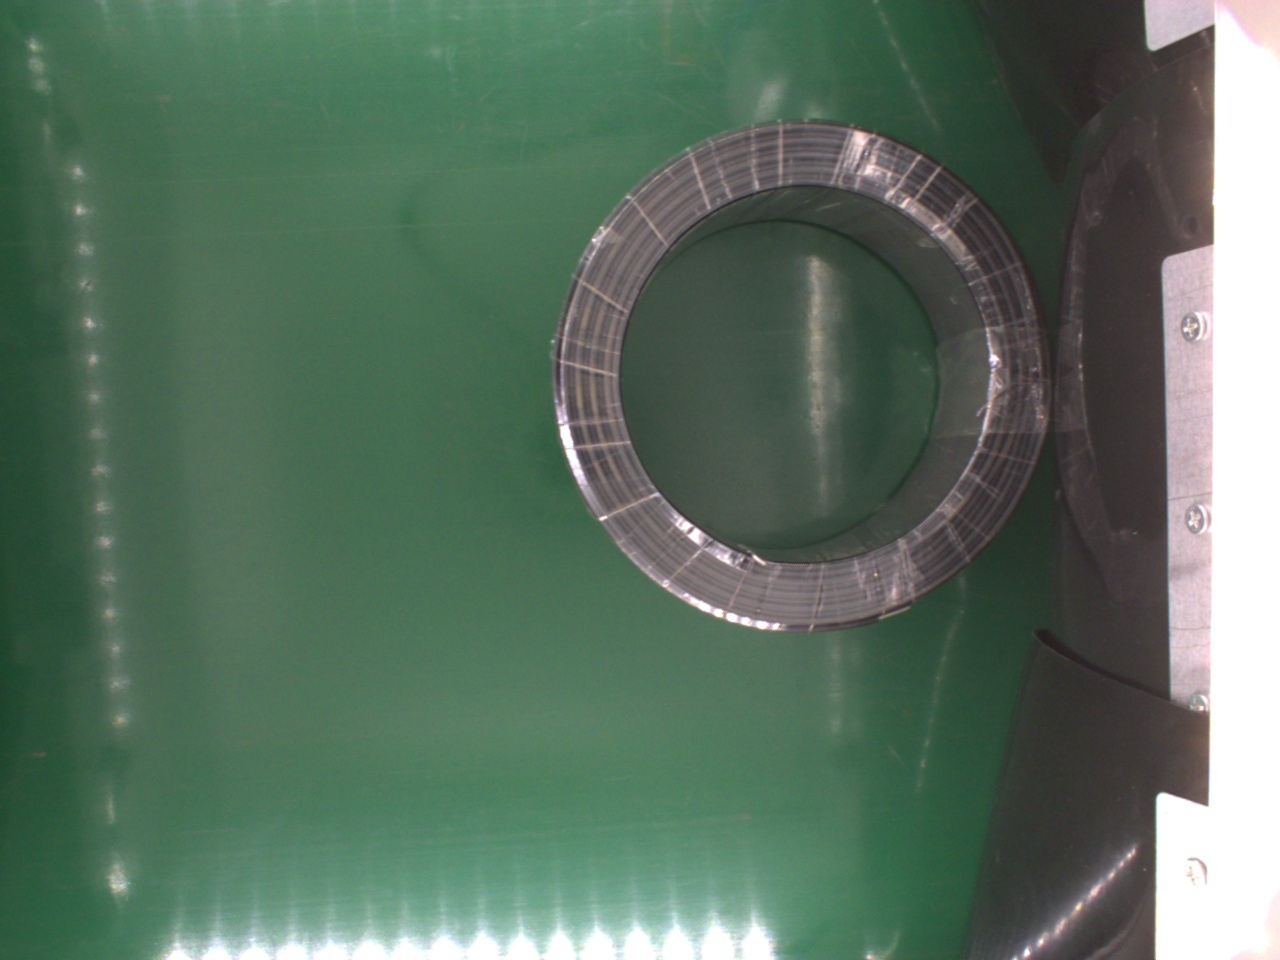black: (553, 115, 1047, 625)
